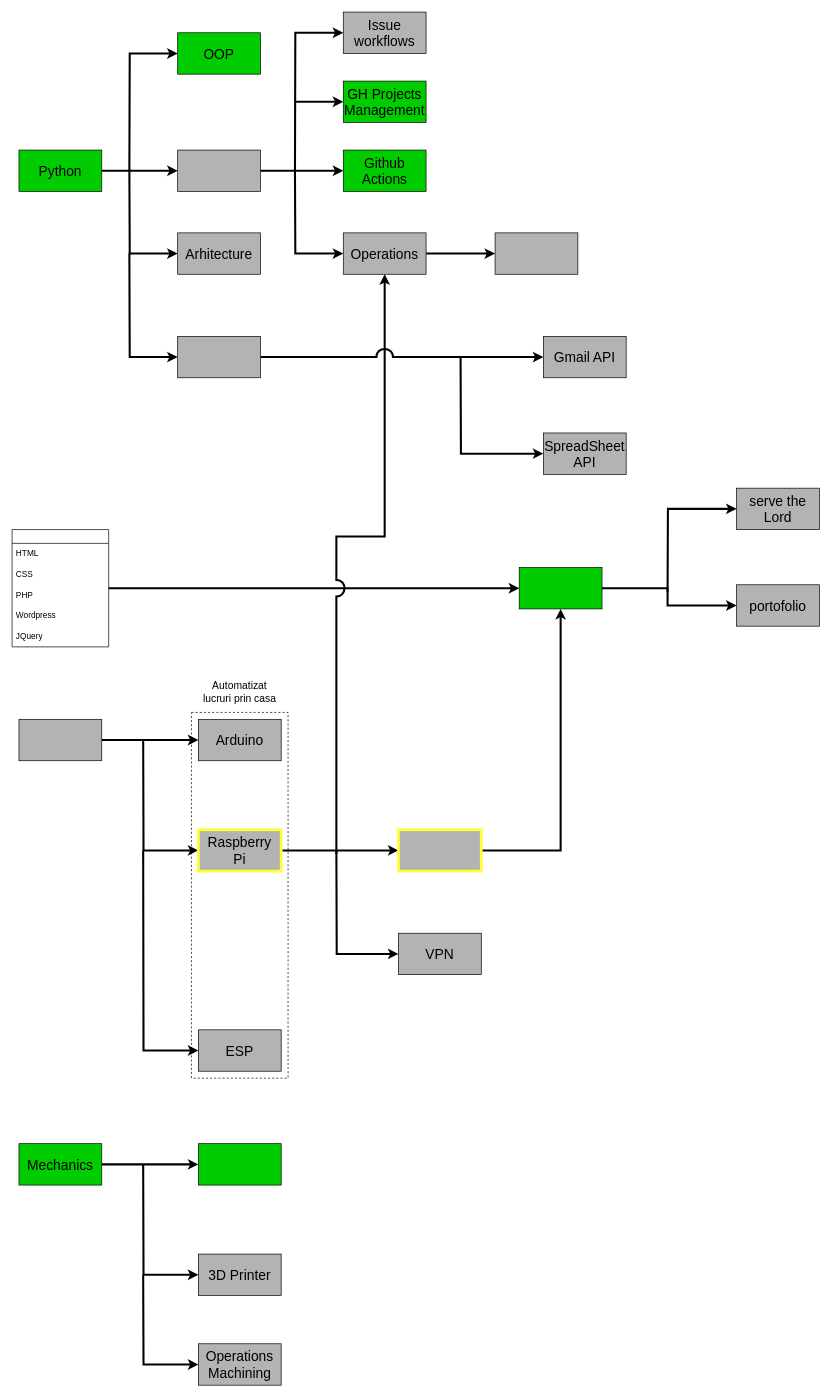
This 831x1397 diagram has some shape labels left out. Each missing label, with the centre of its shape:
3D Design: [239,1164]
DevOps: [218,170]
Docker: [536,253]
Electronics: [60,740]
Google API OAuth2: [218,357]
Web Hosting: [439,850]
Website: [560,588]
